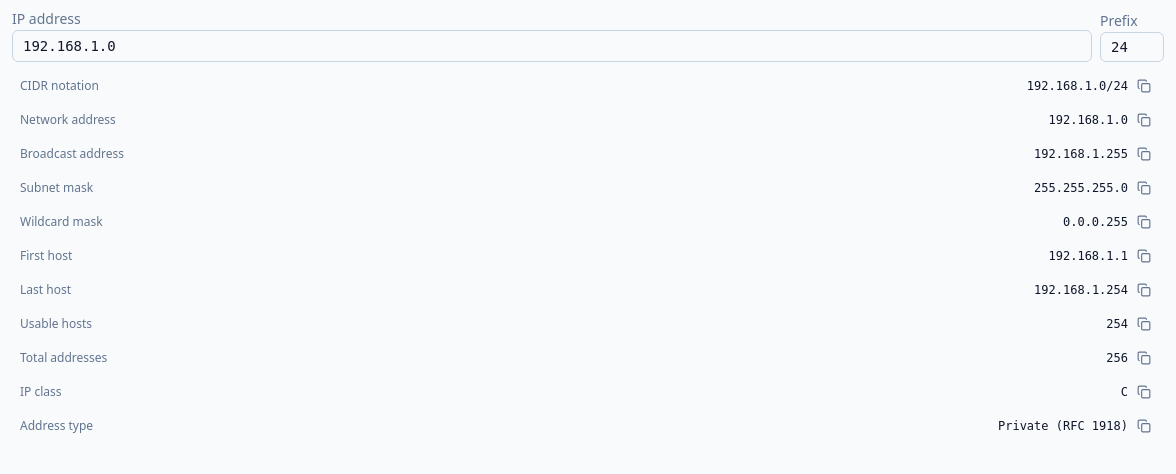
SubnetCalculatorWidget › shows an error for an invalid address
Step 1. Type "999.0.0.1" into the field labelled "IP address" → point(552, 46), box x1=12 y1=30 x2=1092 y2=62
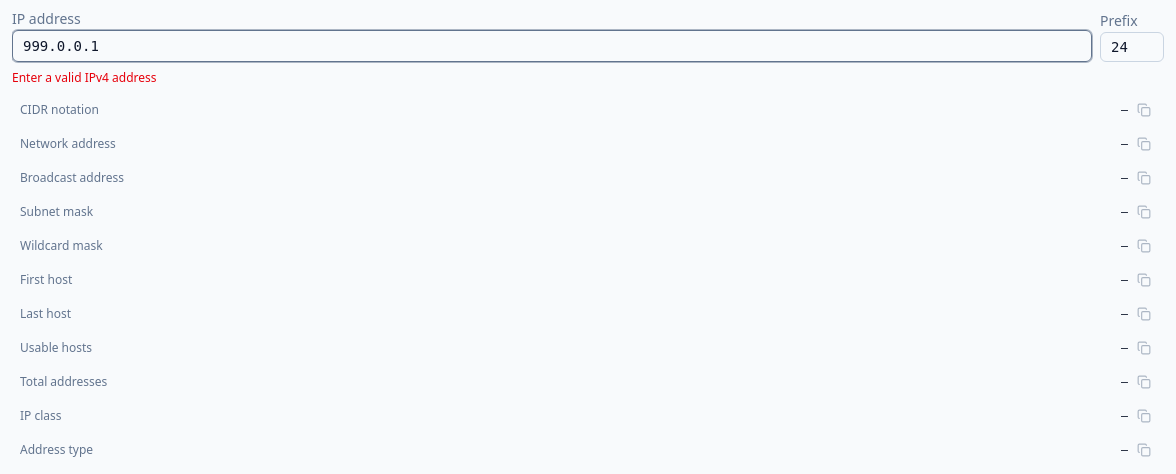
Result: the text "Enter a valid IPv4 address" is shown at x1=12 y1=69 x2=156 y2=86
